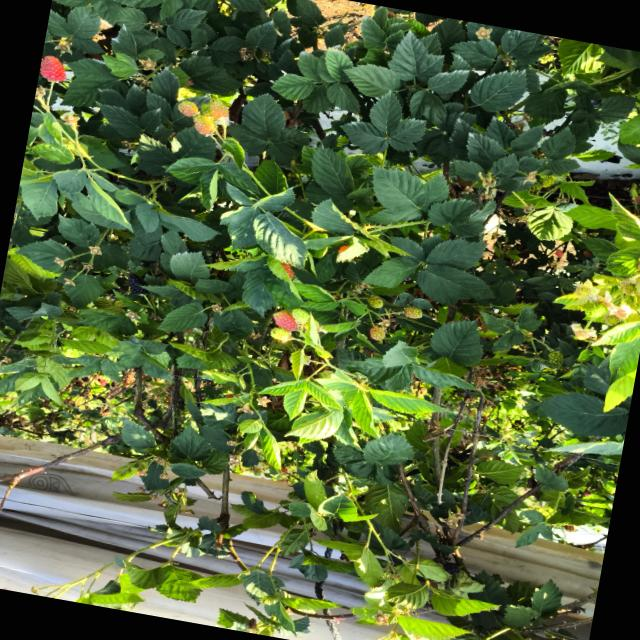maduro: (127, 273, 147, 295)
naranja: (39, 55, 65, 81), (272, 310, 297, 331), (280, 262, 294, 278)
verde: (193, 114, 215, 135), (209, 97, 228, 118), (584, 301, 607, 318), (177, 100, 199, 117), (270, 326, 291, 342), (291, 307, 309, 324), (403, 306, 422, 319), (366, 295, 384, 308), (369, 326, 385, 340)
